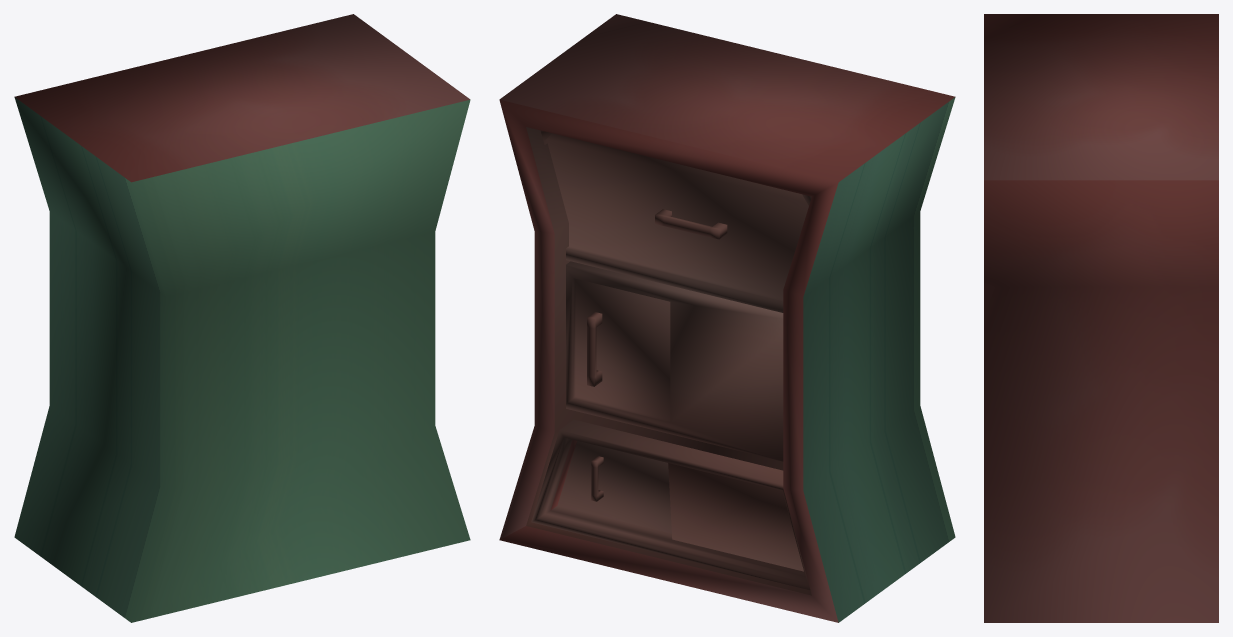
The model's file is Armario.fbx.
3 views of the same model, side by side, from view 1: azimuth 30°, elevation 25°; view 2: azimuth 150°, elevation 25°; view 3: azimuth 270°, elevation 25° (orthographic).
Parts seen in each view (by area): view 1: Armario; view 2: Armario; view 3: Armario.
Part boxes in pixels (<box>): Armario: <box>14,14,470,622</box>; Armario: <box>499,14,955,622</box>; Armario: <box>984,14,1218,622</box>.
Bounding box in the file's own units: 224 × 134 × 278.
